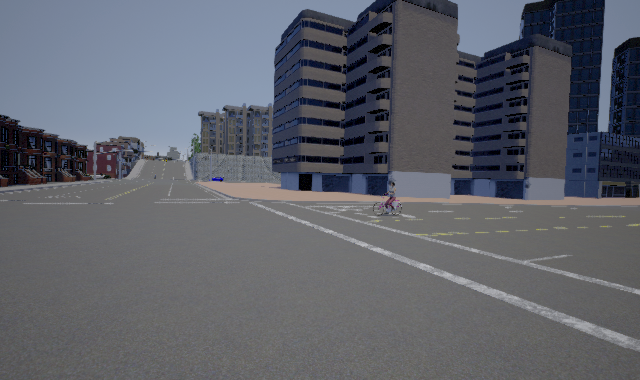bike: (369, 177, 408, 218)
